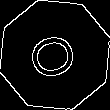O_E: (25, 27, 85, 83)
